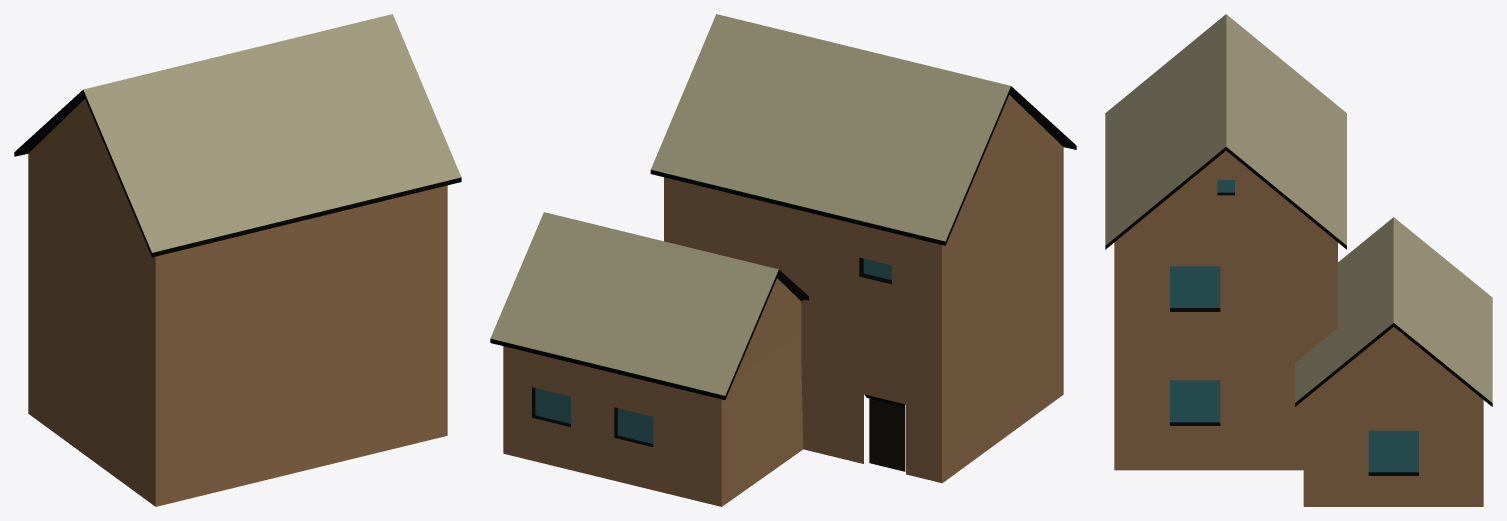
Rendered from Dubbelt_Brunt_hus.fbx.
The picture shows the model from 3 angles, left to right: view 1: azimuth 30°, elevation 25°; view 2: azimuth 150°, elevation 25°; view 3: azimuth 270°, elevation 25°; orthographic projection. The views are drawn at different scales.
Parts seen in each view (by area): view 1: Plane.003; view 2: Plane.003; view 3: Plane.003.
Boxes of the visible parts, box(x1,y1,x2,y2) form: Plane.003: box(14, 14, 461, 506); Plane.003: box(490, 14, 1076, 506); Plane.003: box(1105, 14, 1492, 506).
Size of the model in its own units: 10.81 by 9.76 by 10.46.
